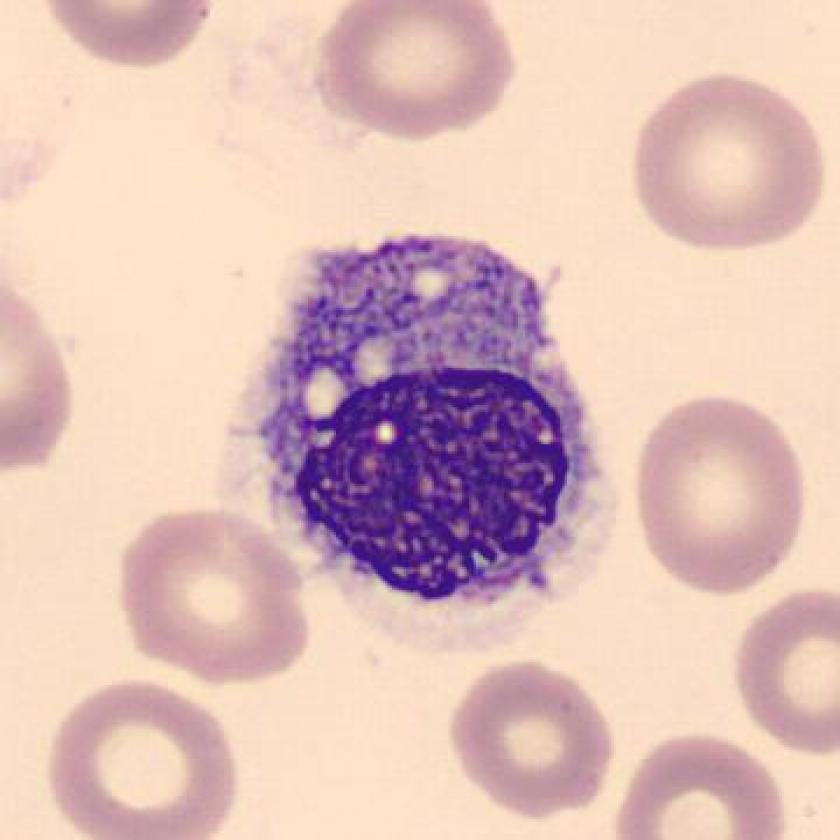monocyte: (204, 219, 633, 675)
